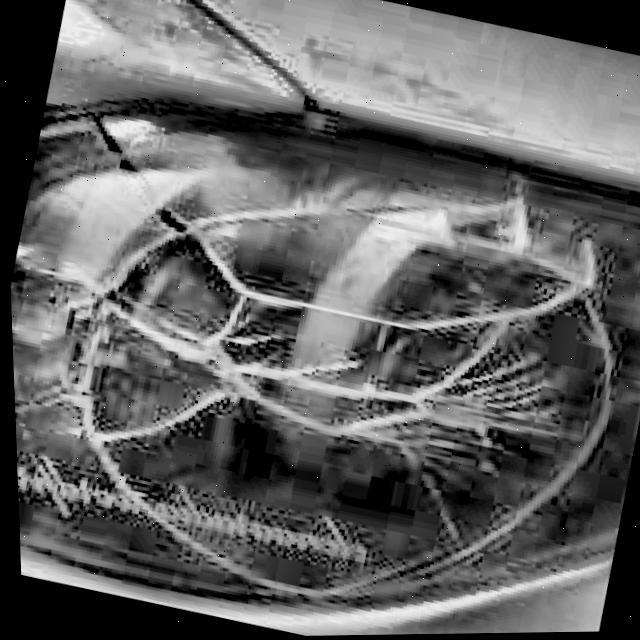head_lamp: (22, 126, 640, 638)
